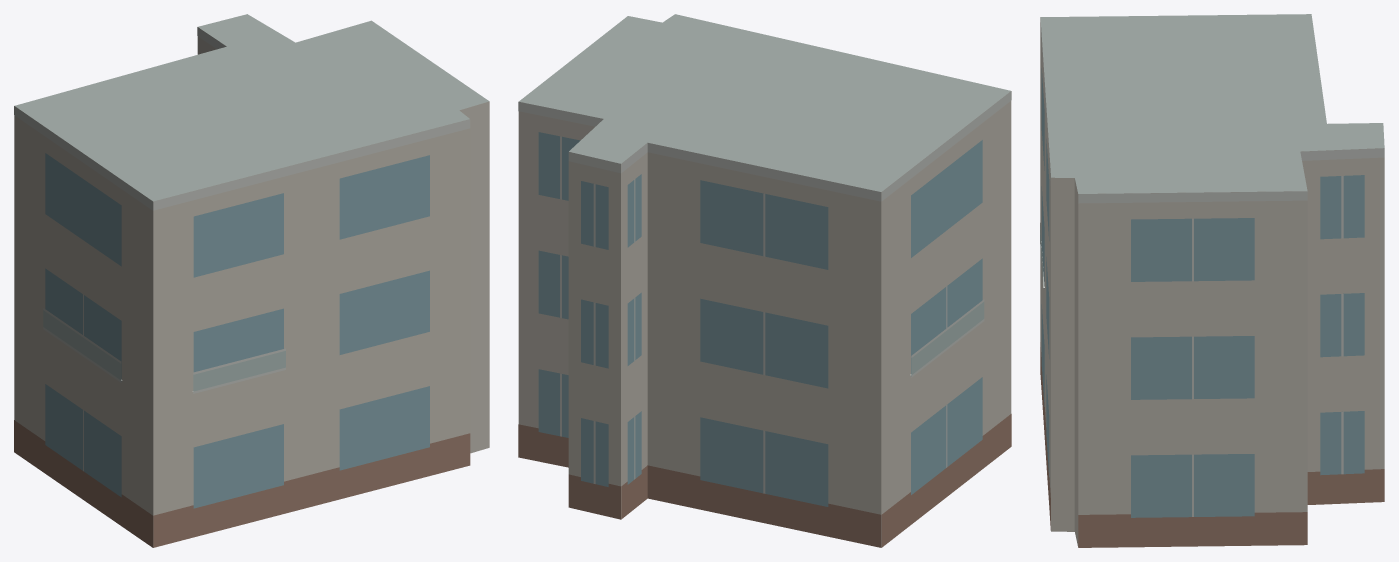
Rendered from survey-upis-32607236.glb.
3 renders of one model, left to right at view 1: azimuth 30°, elevation 25°; view 2: azimuth 150°, elevation 25°; view 3: azimuth 270°, elevation 25°, orthographic. The views are drawn at different scales.
Parts seen in each view (by area): view 1: survey-upis-32607236.tmp; view 2: survey-upis-32607236.tmp; view 3: survey-upis-32607236.tmp.
Boxes of the visible parts, x1,y1,x2,y2 form: survey-upis-32607236.tmp: [14, 14, 489, 547]; survey-upis-32607236.tmp: [518, 14, 1011, 547]; survey-upis-32607236.tmp: [1040, 14, 1384, 547].
Size of the model in its own units: 9.94 by 9.1 by 8.04.
